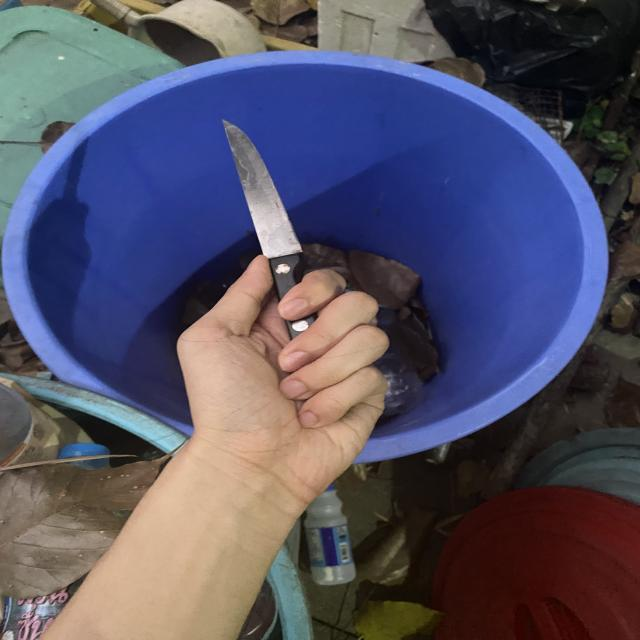faca: (156, 114, 404, 498)
